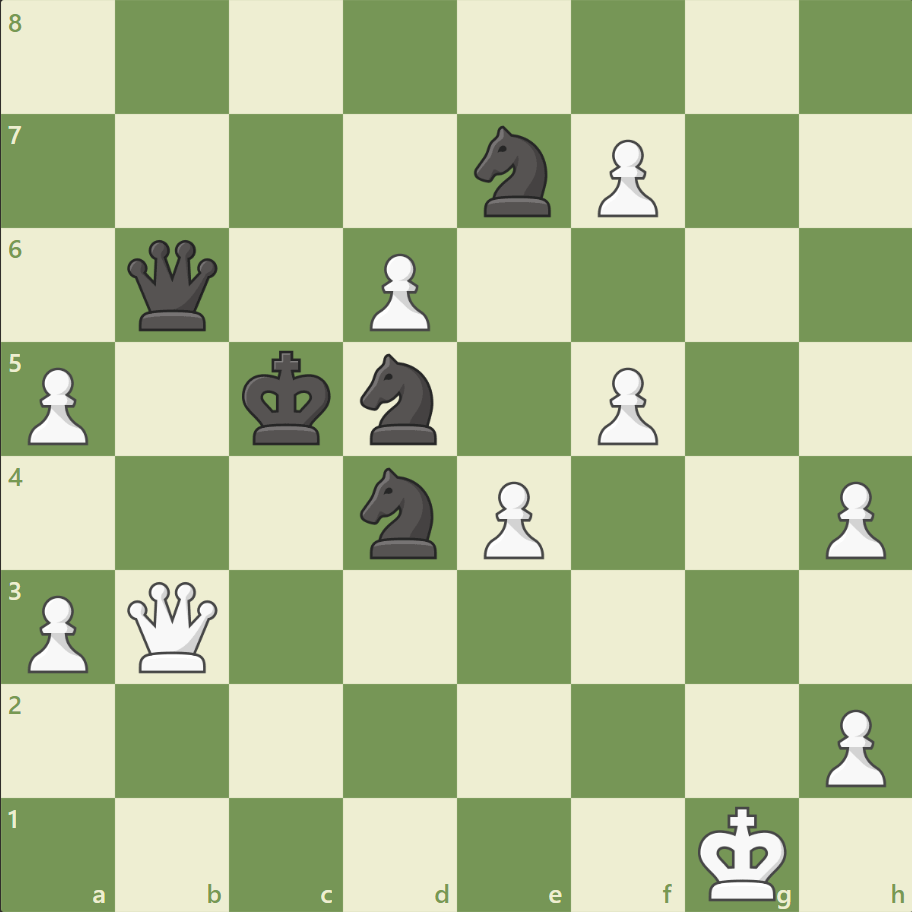K: (692, 798, 792, 906)
P: (20, 359, 95, 450), (474, 473, 549, 564), (20, 586, 95, 677), (588, 132, 662, 223), (361, 246, 435, 337), (588, 359, 662, 450), (815, 473, 889, 564), (815, 700, 889, 791)
Q: (124, 576, 223, 676)
k: (238, 344, 338, 452)
n: (351, 461, 449, 564), (351, 348, 449, 450), (465, 121, 562, 223)
q: (124, 236, 223, 335)
